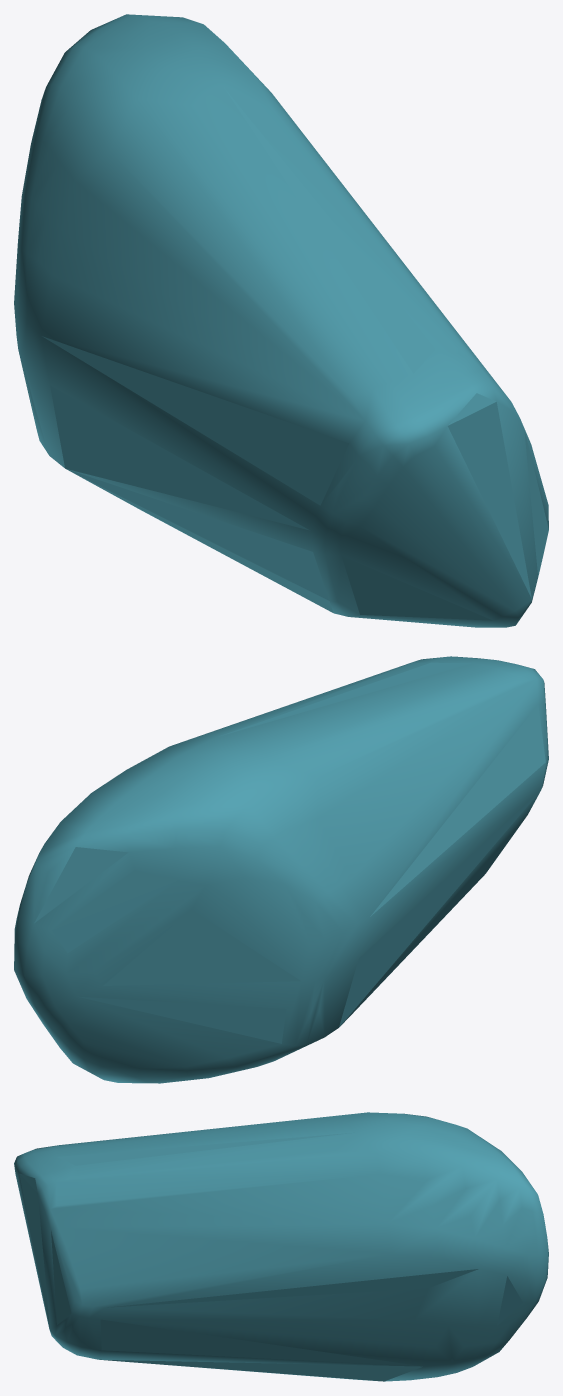
File: COL_Alpha_Surface_007_convex_hull.dae
3 renders of one model, top to bottom at view 1: azimuth 30°, elevation 25°; view 2: azimuth 150°, elevation 25°; view 3: azimuth 270°, elevation 25°, orthographic. The views are drawn at different scales.
Parts seen in each view (by area): view 1: COL_Alpha_Surface_007_convex_hull; view 2: COL_Alpha_Surface_007_convex_hull; view 3: COL_Alpha_Surface_007_convex_hull.
Boxes of the visible parts, x1=… form: COL_Alpha_Surface_007_convex_hull: x1=14, y1=14, x2=548, y2=627; COL_Alpha_Surface_007_convex_hull: x1=14, y1=656, x2=548, y2=1083; COL_Alpha_Surface_007_convex_hull: x1=14, y1=1112, x2=548, y2=1381.
Size of the model in its own units: 18.4 by 45.34 by 22.93.
